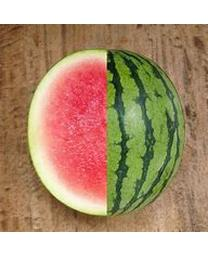watermelon: (29, 48, 185, 217)
